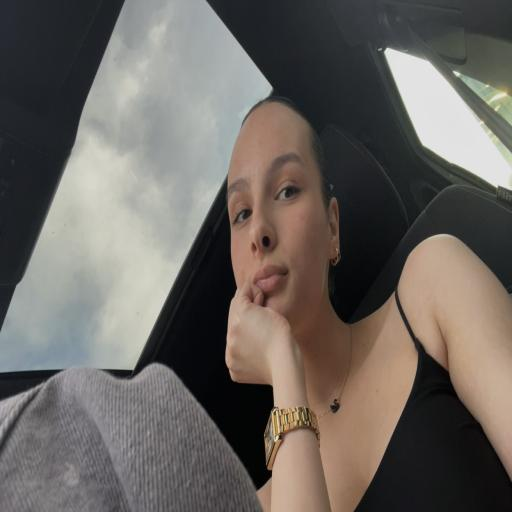marija: (221, 98, 325, 324)
